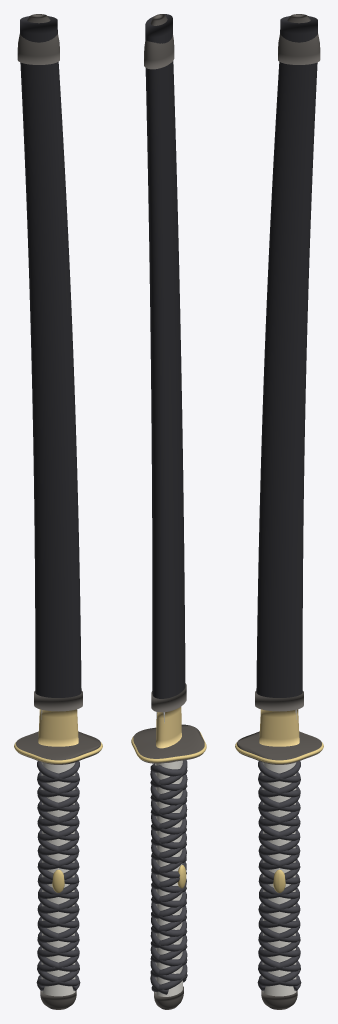
Rendered from katana.glb.
The picture shows the model from 3 angles, left to right: view 1: azimuth 90°, elevation 25°; view 2: azimuth 150°, elevation 25°; view 3: azimuth 270°, elevation 25°; orthographic projection.
Visible parts, largest first — view 1: Saya, Tsuka, Tsuba, Habaki; view 2: Saya, Tsuka, Tsuba, Habaki; view 3: Saya, Tsuka, Tsuba, Habaki.
Boxes of the visible parts, left/top/right/bottom form: Saya: left=17, top=14, right=82, bottom=711; Tsuka: left=36, top=761, right=80, bottom=1009; Tsuba: left=14, top=731, right=102, bottom=764; Habaki: left=38, top=709, right=78, bottom=746; Saya: left=144, top=14, right=186, bottom=712; Tsuka: left=150, top=760, right=187, bottom=1009; Tsuba: left=131, top=724, right=206, bottom=763; Habaki: left=156, top=706, right=181, bottom=748; Saya: left=255, top=14, right=320, bottom=711; Tsuka: left=257, top=761, right=301, bottom=1009; Tsuba: left=235, top=731, right=323, bottom=764; Habaki: left=259, top=709, right=299, bottom=746.
Size of the model in its own units: 0.0722 by 1 by 0.0816.
